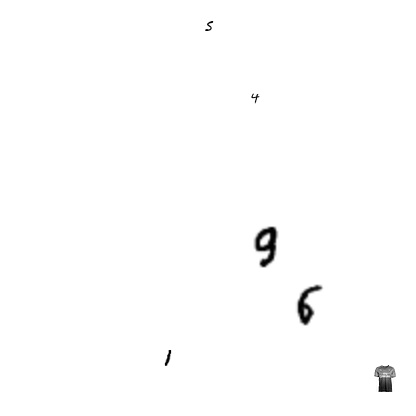1: (157, 347, 179, 369)
4: (248, 90, 262, 104)
5: (202, 19, 216, 33)
6: (278, 277, 334, 333)
9: (238, 215, 294, 271)
T-shirt/top: (371, 365, 399, 393)
